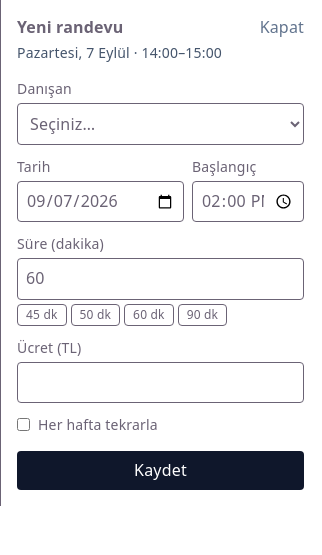
Test: RandevuPaneli › yeni randevuda danışan seçilmeden kaydetmez
Click the button "Kaydet".
click(160, 470)  # box [17,451,304,490]
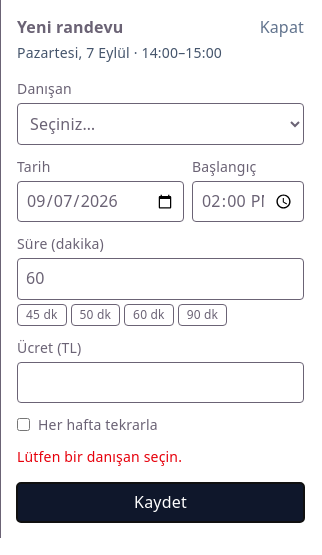
Check: the text "Lütfen bir danışan seçin." is shown, box [17,447,182,466]
